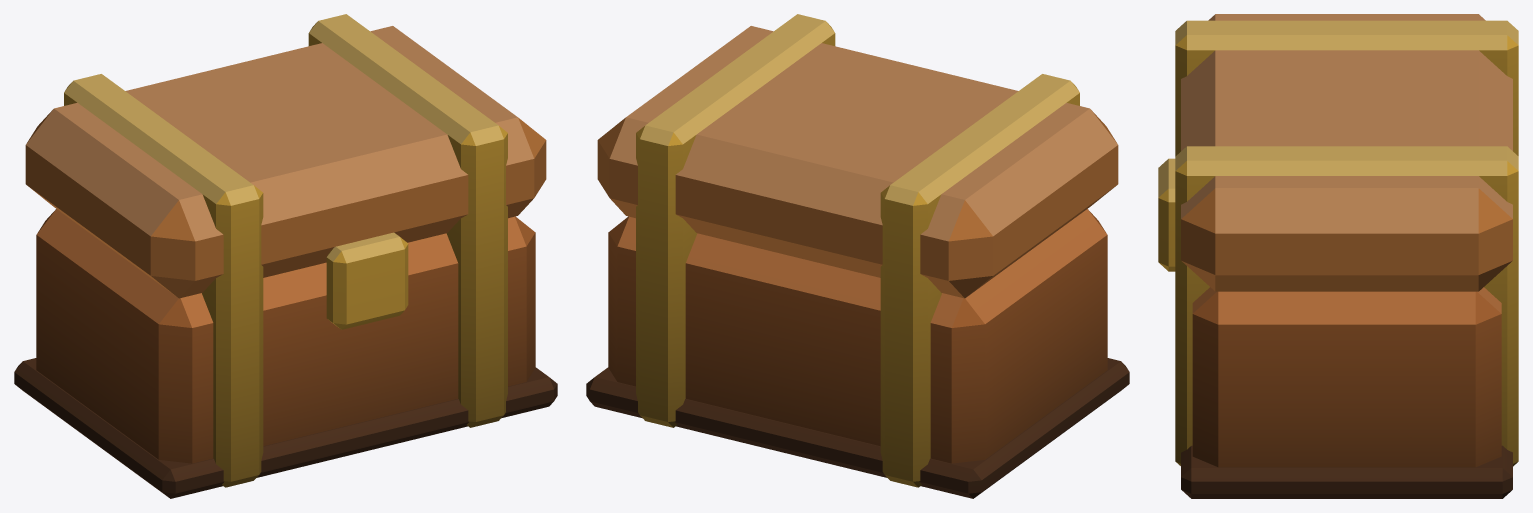
The model's file is chest.glb.
3 views of the same model, side by side, from view 1: azimuth 30°, elevation 25°; view 2: azimuth 150°, elevation 25°; view 3: azimuth 270°, elevation 25° (orthographic). The views are drawn at different scales.
Visible parts, largest first — view 1: mesh_chest; view 2: mesh_chest; view 3: mesh_chest.
Part boxes in pixels (box(x1,y1,x2,y2)): mesh_chest: box(14, 14, 557, 498); mesh_chest: box(586, 14, 1129, 498); mesh_chest: box(1158, 14, 1518, 498).
Bounding box in the file's own units: 0.84 × 0.6 × 0.63.
